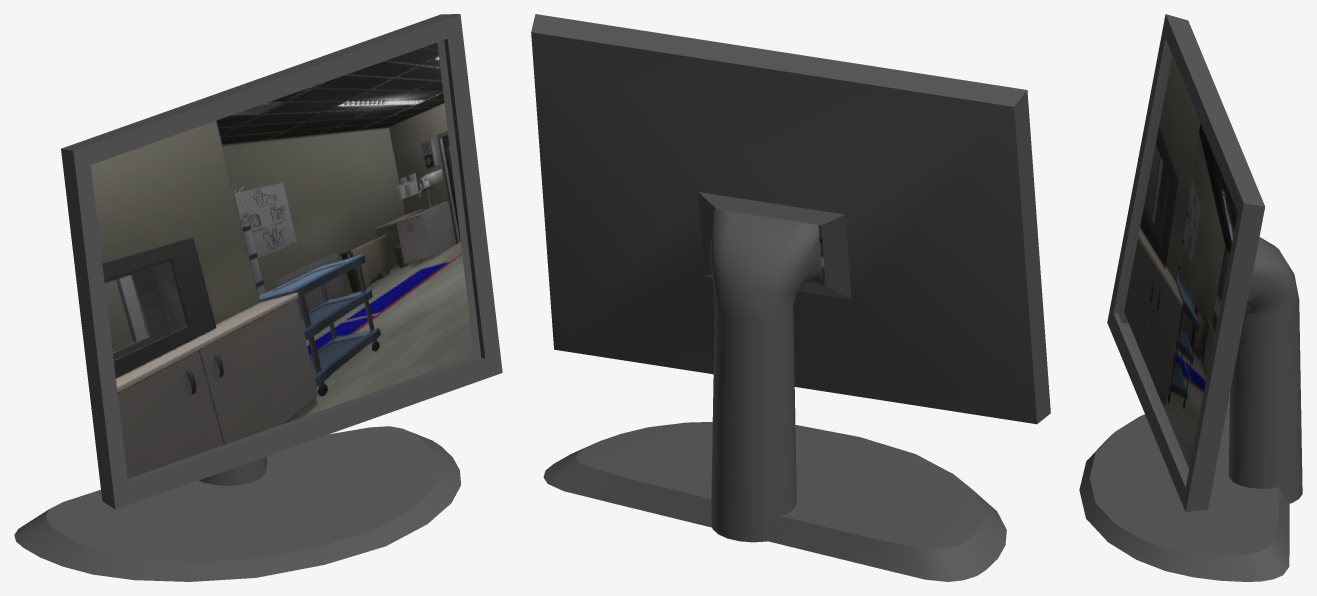
File: cave_comp.fbx
3 renders of one model, left to right at view 1: azimuth 30°, elevation 25°; view 2: azimuth 150°, elevation 25°; view 3: azimuth 270°, elevation 25°, orthographic. The views are drawn at different scales.
Parts seen in each view (by area): view 1: cave_computer_v2_l_screen, cave_computer_v2_l_computer; view 2: cave_computer_v2_l_computer; view 3: cave_computer_v2_l_computer, cave_computer_v2_l_screen.
Boxes of the visible parts, left/top/right/bottom form: cave_computer_v2_l_screen: left=91, top=42, right=474, bottom=478; cave_computer_v2_l_computer: left=14, top=14, right=502, bottom=581; cave_computer_v2_l_computer: left=531, top=14, right=1050, bottom=581; cave_computer_v2_l_computer: left=1079, top=14, right=1302, bottom=581; cave_computer_v2_l_screen: left=1124, top=56, right=1237, bottom=468.
Size of the model in its own units: 46.71 by 42.96 by 22.49.
2 materials, 1 textured.
